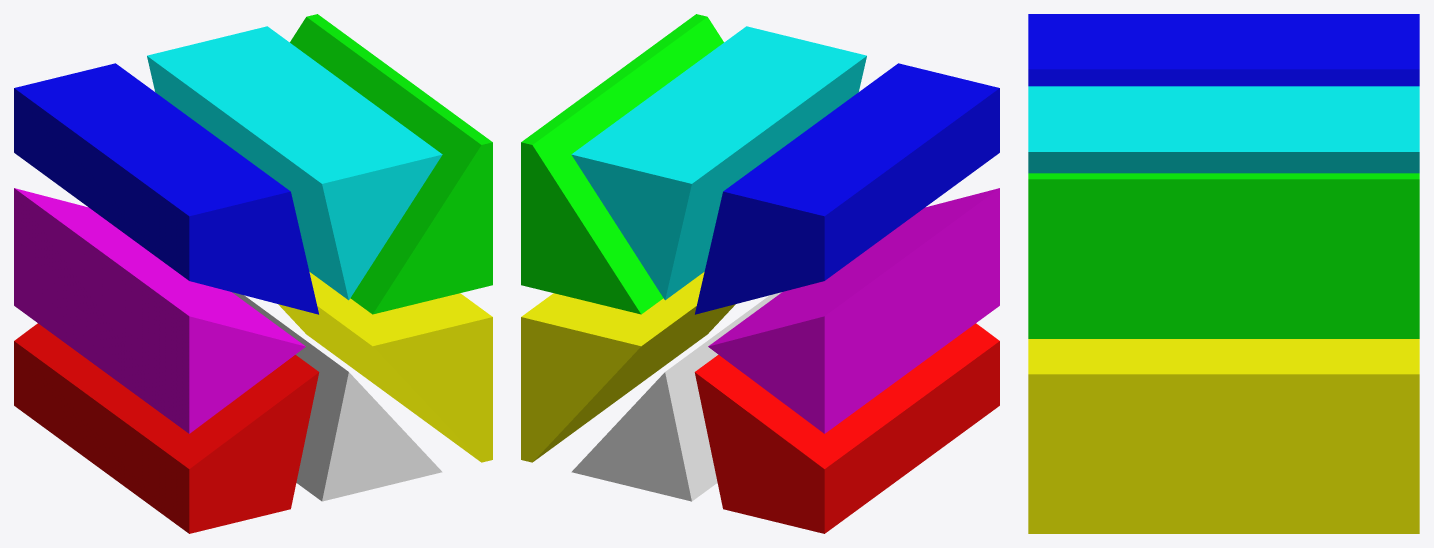
The model's file is loose-parts.glb.
3 views of the same model, side by side, from view 1: azimuth 30°, elevation 25°; view 2: azimuth 150°, elevation 25°; view 3: azimuth 270°, elevation 25° (orthographic). The views are drawn at different scales.
Parts seen in each view (by area): view 1: =>[0:1:1:4], =>[0:1:1:5], =>[0:1:1:3], =>[0:1:1:2], =>[0:1:1:6], =>[0:1:1:7], =>[0:1:1:8]; view 2: =>[0:1:1:4], =>[0:1:1:5], =>[0:1:1:3], =>[0:1:1:2], =>[0:1:1:6], =>[0:1:1:7], =>[0:1:1:8]; view 3: =>[0:1:1:7], =>[0:1:1:6], =>[0:1:1:5], =>[0:1:1:4].
Part boxes in pixels (bbox=[...]): =>[0:1:1:4]: bbox=[14, 63, 318, 314]; =>[0:1:1:5]: bbox=[147, 26, 442, 300]; =>[0:1:1:3]: bbox=[14, 188, 305, 433]; =>[0:1:1:2]: bbox=[14, 323, 319, 533]; =>[0:1:1:6]: bbox=[290, 14, 492, 314]; =>[0:1:1:7]: bbox=[278, 272, 492, 462]; =>[0:1:1:8]: bbox=[232, 292, 442, 501]; =>[0:1:1:4]: bbox=[695, 63, 999, 314]; =>[0:1:1:5]: bbox=[571, 26, 866, 300]; =>[0:1:1:3]: bbox=[708, 188, 999, 433]; =>[0:1:1:2]: bbox=[694, 323, 999, 533]; =>[0:1:1:6]: bbox=[521, 14, 723, 314]; =>[0:1:1:7]: bbox=[521, 272, 735, 462]; =>[0:1:1:8]: bbox=[571, 292, 781, 501]; =>[0:1:1:7]: bbox=[1028, 339, 1419, 533]; =>[0:1:1:6]: bbox=[1028, 173, 1419, 338]; =>[0:1:1:5]: bbox=[1028, 86, 1419, 173]; =>[0:1:1:4]: bbox=[1028, 14, 1419, 86].
Size of the model in its own units: 1 by 1 by 1.
